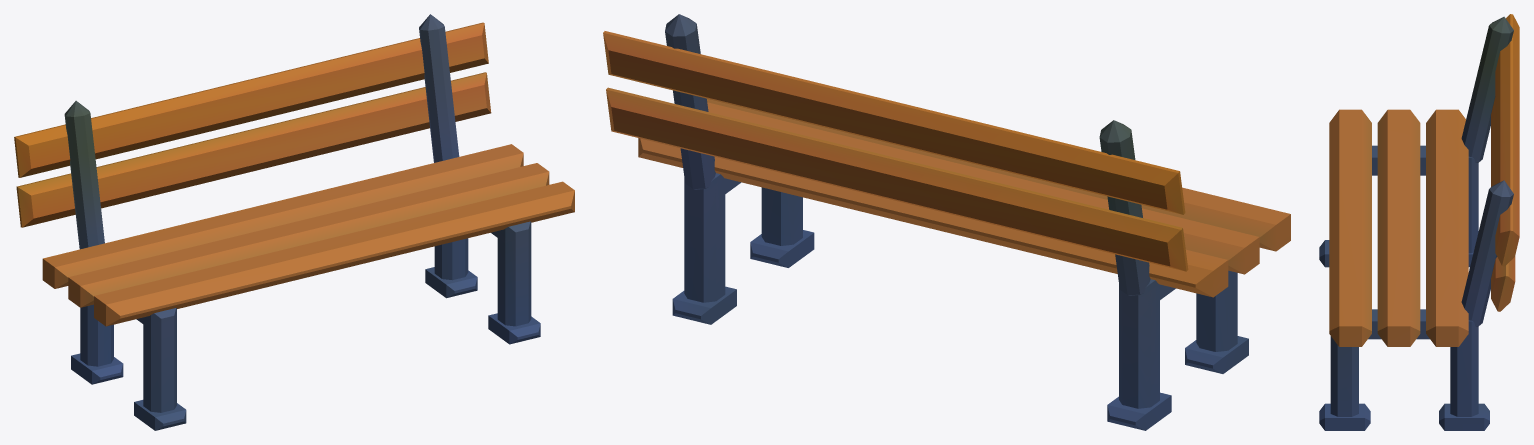
File: Prop_Bench.glb
3 views of the same model, side by side, from view 1: azimuth 30°, elevation 25°; view 2: azimuth 150°, elevation 25°; view 3: azimuth 270°, elevation 25° (orthographic). The views are drawn at different scales.
Parts seen in each view (by area): view 1: Prop_Bench; view 2: Prop_Bench; view 3: Prop_Bench.
Boxes of the visible parts, box(x1,y1,x2,y2) form: Prop_Bench: box(14, 14, 574, 430); Prop_Bench: box(603, 14, 1290, 430); Prop_Bench: box(1319, 14, 1519, 430).
Bounding box in the file's own units: 1.8 × 0.9439 × 0.7038.
